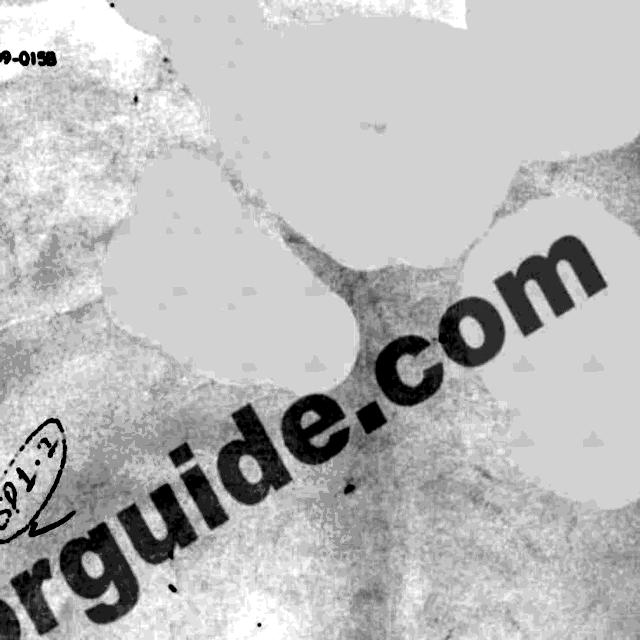other: (483, 119, 639, 250)
